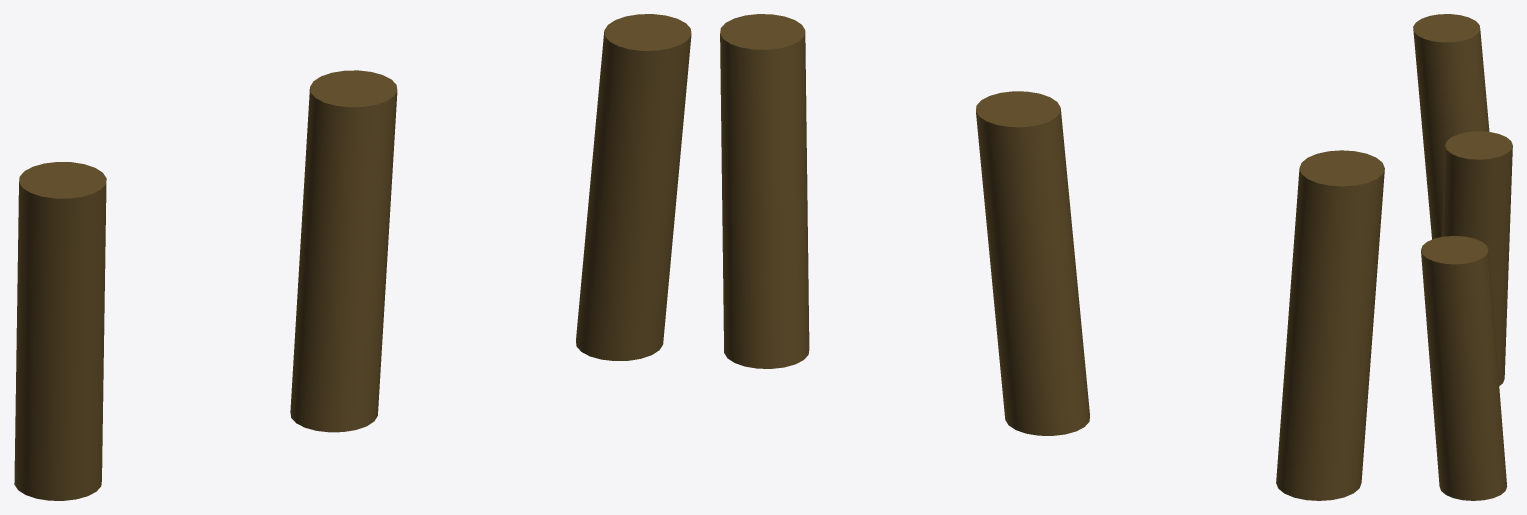
File: dockLegsMapped.fbx
The picture shows the model from 3 angles, left to right: view 1: azimuth 30°, elevation 25°; view 2: azimuth 150°, elevation 25°; view 3: azimuth 270°, elevation 25°; orthographic projection. The views are drawn at different scales.
Parts seen in each view (by area): view 1: Pier2, Pier3, Pier1; view 2: Pier3, Pier1, Pier2; view 3: Pier3, Pier1, Pier2.
Boxes of the visible parts, box(x1,y1,x2,y2) form: Pier2: box(290, 70, 397, 432); Pier3: box(576, 14, 691, 360); Pier1: box(14, 162, 106, 500); Pier3: box(720, 14, 809, 368); Pier1: box(1276, 150, 1384, 500); Pier2: box(976, 91, 1089, 435); Pier3: box(1421, 236, 1507, 500); Pier1: box(1413, 14, 1489, 239); Pier2: box(1442, 131, 1512, 385).
Size of the model in its own units: 4.87 by 2.2 by 0.8197.
